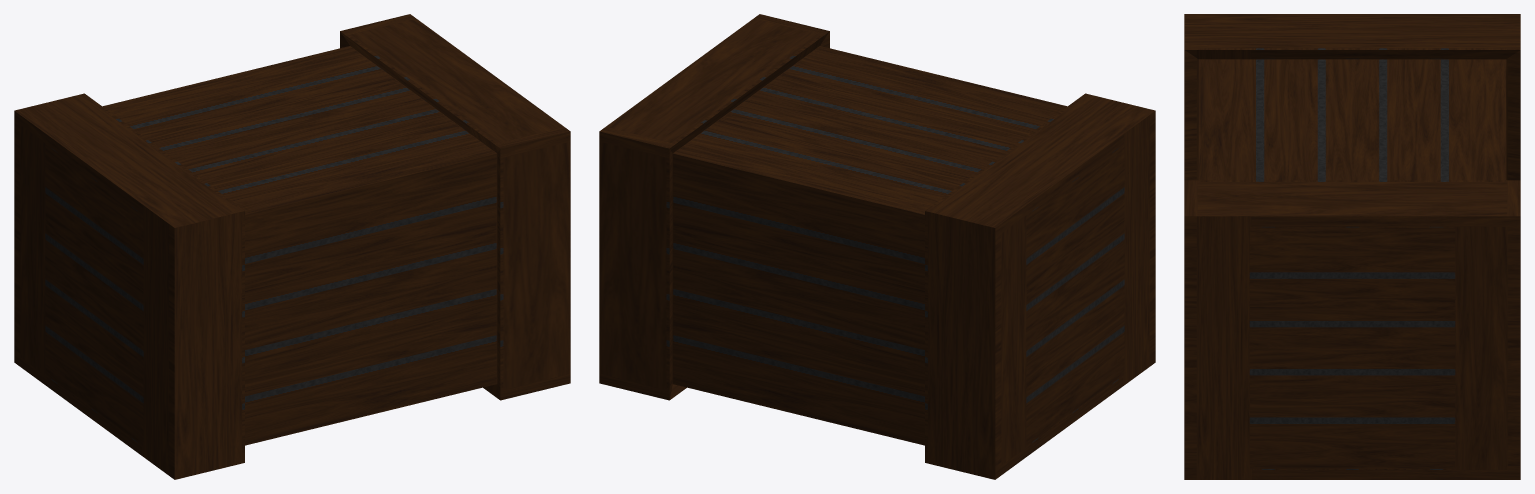
The picture shows the model from 3 angles, left to right: view 1: azimuth 30°, elevation 25°; view 2: azimuth 150°, elevation 25°; view 3: azimuth 270°, elevation 25°; orthographic projection. The views are drawn at different scales.
Parts seen in each view (by area): view 1: box_lowp; view 2: box_lowp; view 3: box_lowp.
Boxes of the visible parts, left/top/right/bottom form: box_lowp: left=14, top=14, right=570, bottom=479; box_lowp: left=599, top=14, right=1155, bottom=479; box_lowp: left=1184, top=14, right=1520, bottom=479.
Bounding box in the file's own units: 1.84 × 1.12 × 1.29.
1 material, 1 textured.
